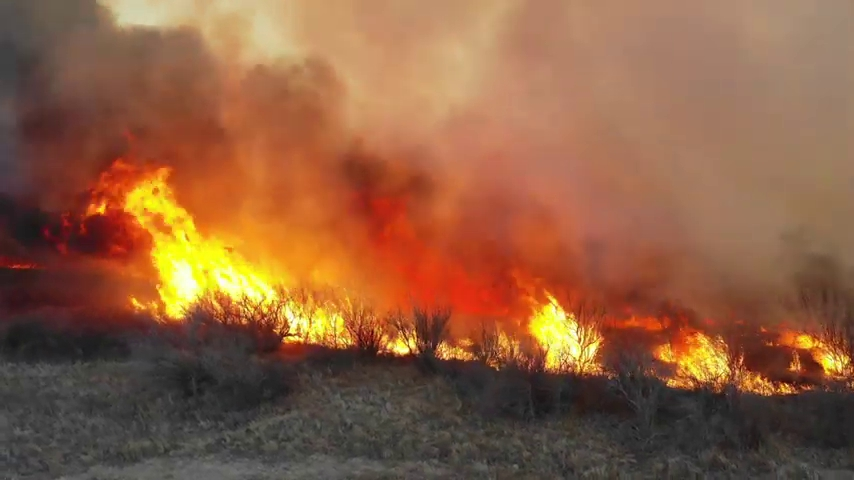forest_fire: (44, 159, 363, 345), (490, 285, 801, 393), (771, 330, 850, 374), (439, 338, 475, 359), (385, 324, 409, 353), (389, 296, 424, 308), (447, 302, 477, 312), (370, 309, 389, 320), (7, 264, 33, 266), (427, 296, 434, 300), (429, 290, 434, 293), (449, 285, 455, 287), (415, 288, 416, 290), (408, 237, 409, 239)
